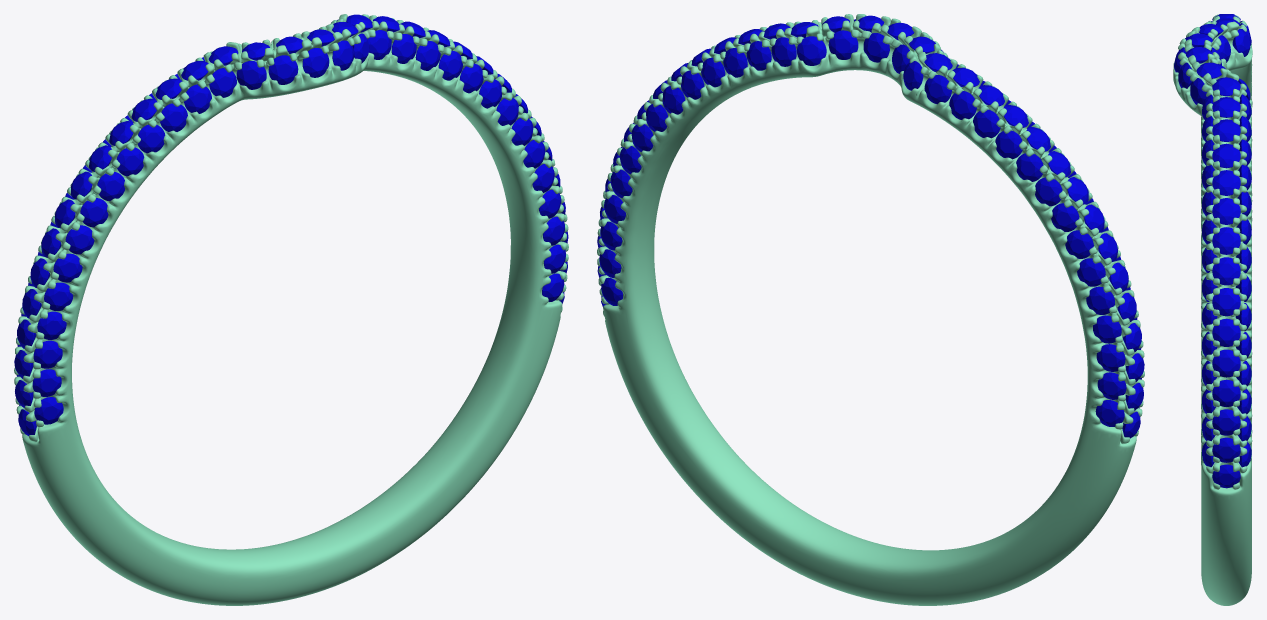
3 views of the same model, side by side, from view 1: azimuth 30°, elevation 25°; view 2: azimuth 150°, elevation 25°; view 3: azimuth 270°, elevation 25° (orthographic). The views are drawn at different scales.
Visible parts, largest first — view 1: Metal03; view 2: Metal03; view 3: Metal03, Diamond_Band.042, Diamond_Band.041, Diamond_Band.040, Diamond_Band.043, Diamond_Band.039, Diamond_Band.044, Diamond_Band.038, Diamond_Band.045, Diamond_Band.037, Diamond_Band.046, Diamond_Band.036 (+40 smaller).
Boxes of the visible parts, left/top/right/bottom form: Metal03: left=14, top=14, right=568, bottom=605; Metal03: left=597, top=14, right=1144, bottom=605; Metal03: left=1173, top=14, right=1252, bottom=605; Diamond_Band.042: left=1212, top=318, right=1240, bottom=346; Diamond_Band.041: left=1212, top=288, right=1240, bottom=316; Diamond_Band.040: left=1212, top=257, right=1240, bottom=285; Diamond_Band.043: left=1212, top=349, right=1240, bottom=377; Diamond_Band.039: left=1212, top=227, right=1240, bottom=254; Diamond_Band.044: left=1212, top=379, right=1240, bottom=406; Diamond_Band.038: left=1212, top=198, right=1240, bottom=224; Diamond_Band.045: left=1212, top=409, right=1240, bottom=435; Diamond_Band.037: left=1212, top=170, right=1240, bottom=195; Diamond_Band.046: left=1212, top=437, right=1240, bottom=462; Diamond_Band.036: left=1212, top=143, right=1240, bottom=168.
Size of the model in its own units: 20.85 by 20.86 by 2.8.
